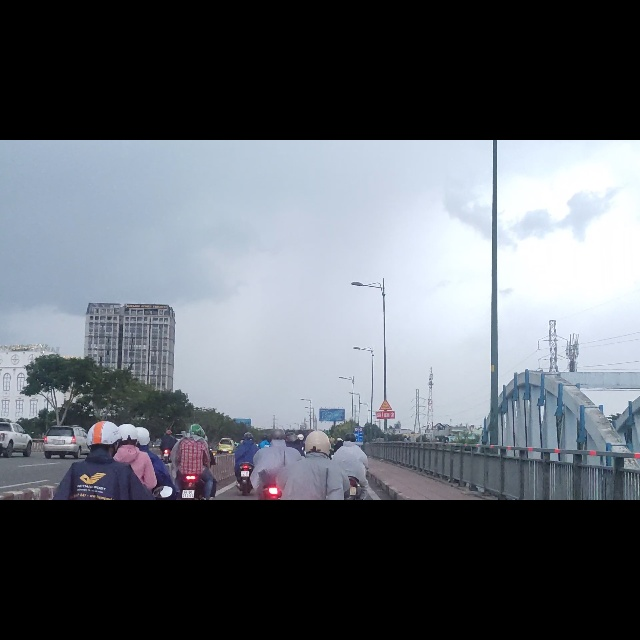bien_chi_dan: (378, 459, 392, 481)
